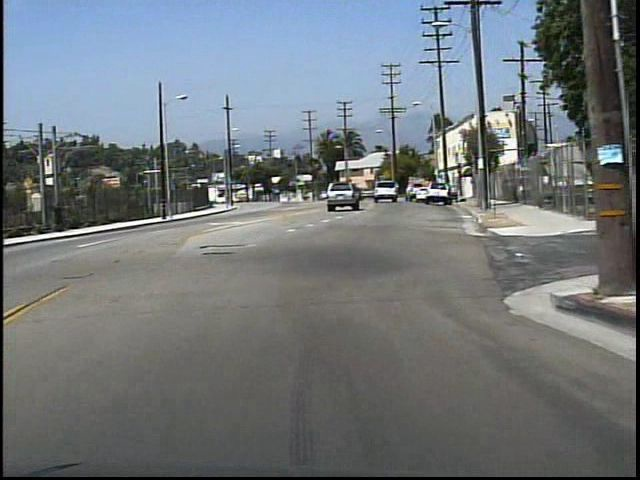person: (54, 199, 70, 235)
